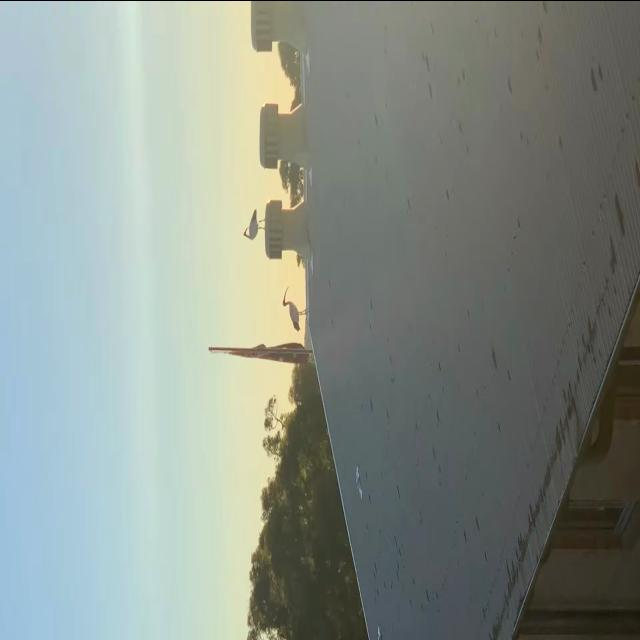Birds-Ibis: (281, 282, 309, 332), (242, 206, 268, 242)
